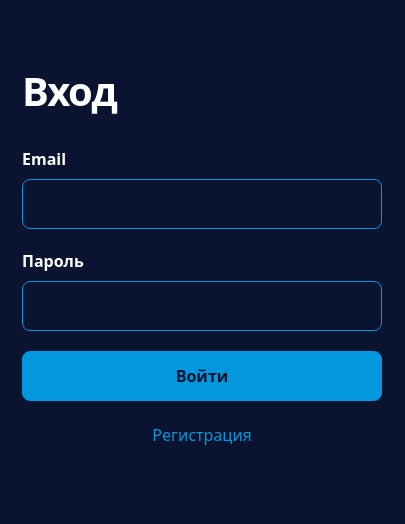
Test: показывает ошибку авторизации 401
Type "student@example.com" into the field labelled "Email" at (202,204), box [22,179,382,229]
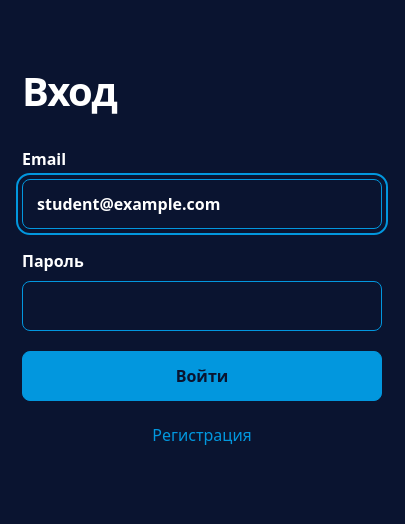
Type "Student123!" into the password field labelled "Пароль" at (202,306), box [22,281,382,331]
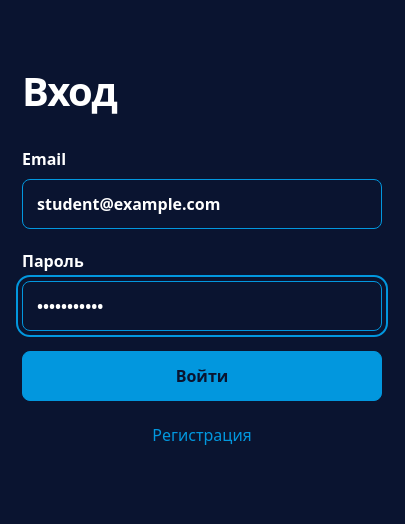
Click the button "Войти" at (202,376), box [22,351,382,401]
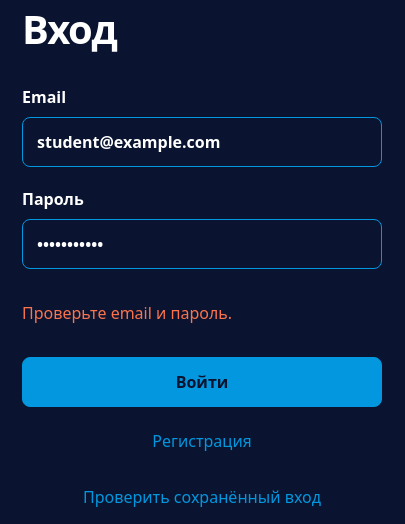
Result: the message reads "Проверьте email и пароль." at [22,302,232,324]
